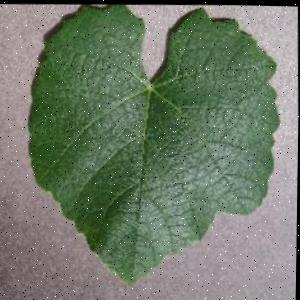Folha: (21, 0, 283, 291)
